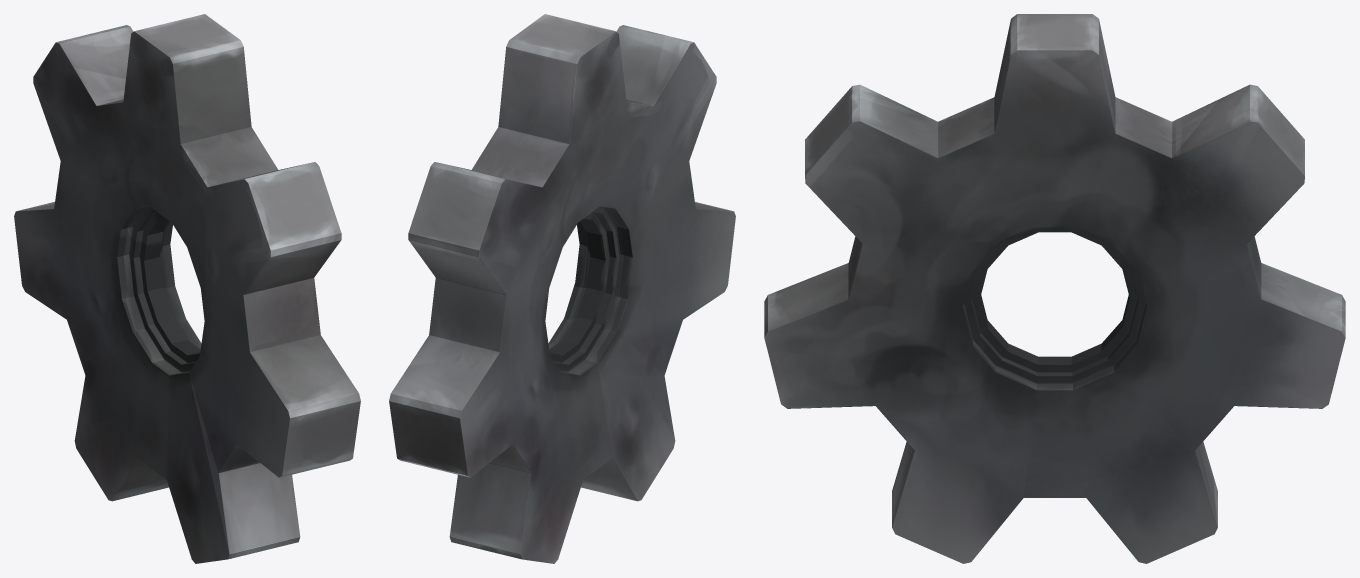
The model's file is gear.glb.
3 renders of one model, left to right at view 1: azimuth 30°, elevation 25°; view 2: azimuth 150°, elevation 25°; view 3: azimuth 270°, elevation 25°, orthographic. The views are drawn at different scales.
Visible parts, largest first — view 1: Gear; view 2: Gear; view 3: Gear.
Part boxes in pixels (x1,y1,x2,y2): Gear: [14, 14, 360, 563]; Gear: [389, 14, 735, 563]; Gear: [764, 14, 1345, 563].
Size of the model in its own units: 0.4261 by 2.79 by 2.86.
Materials: 1 (1 with a texture image).
